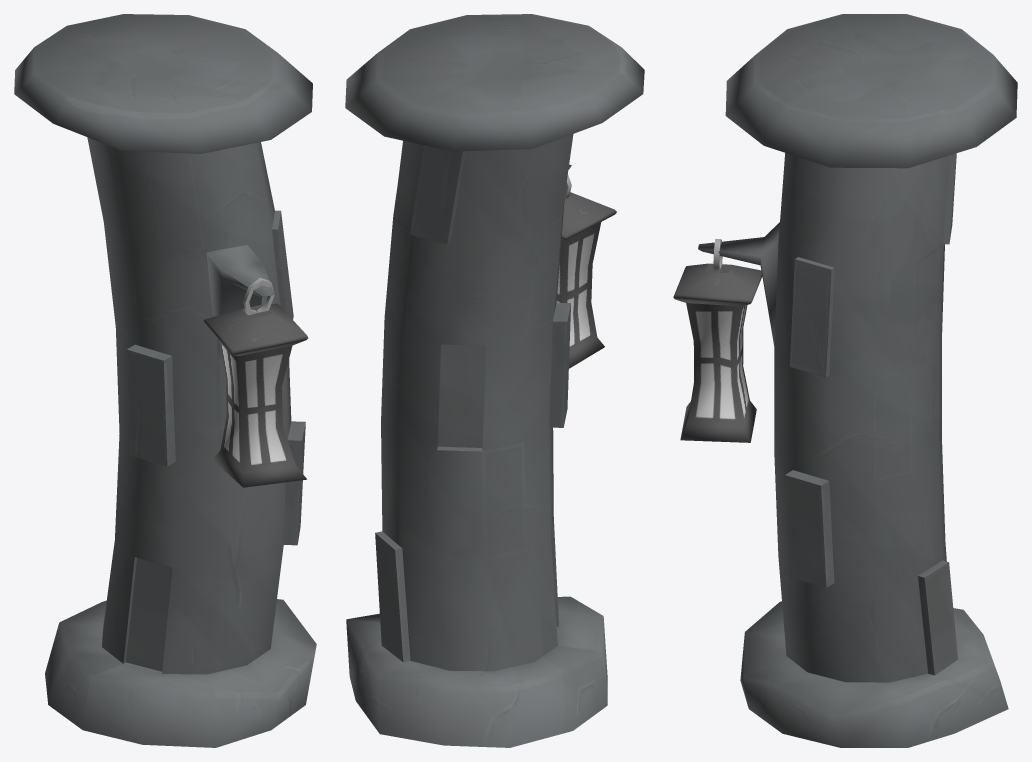
File: Pilar.FBX
3 views of the same model, side by side, from view 1: azimuth 30°, elevation 25°; view 2: azimuth 150°, elevation 25°; view 3: azimuth 270°, elevation 25° (orthographic). The views are drawn at different scales.
Visible parts, largest first — view 1: Cylinder001; view 2: Cylinder001; view 3: Cylinder001.
Boxes of the visible parts, x1,y1,x2,y2 form: Cylinder001: (14, 14, 316, 747); Cylinder001: (345, 14, 644, 747); Cylinder001: (673, 14, 1017, 747).
Bounding box in the file's own units: 1.04 × 2.4 × 1.21.
